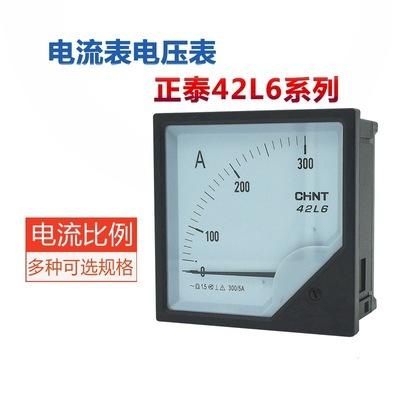pointer: (165, 123, 343, 318)
